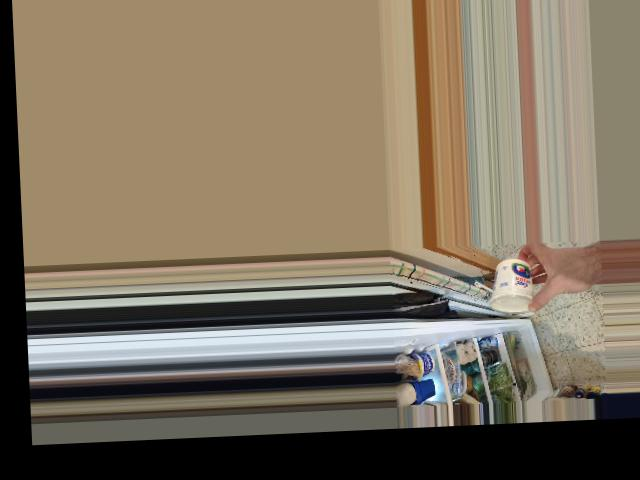cotage: (488, 257, 535, 312)
